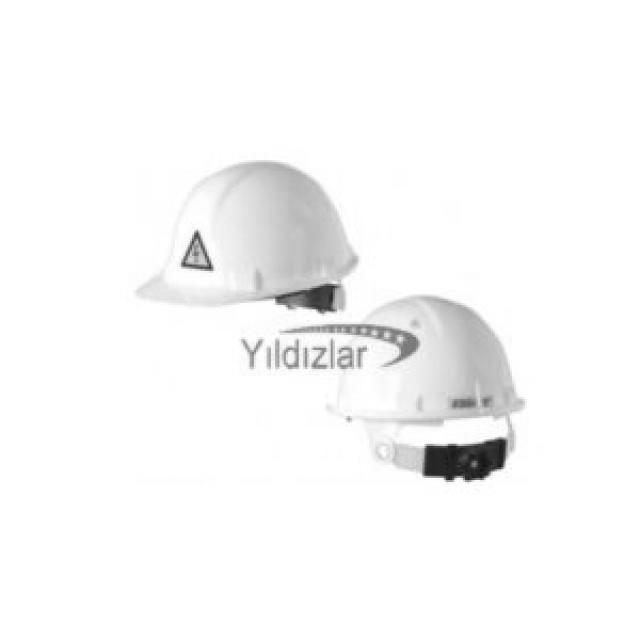construction helmet: (333, 299, 527, 480), (130, 162, 361, 311)
